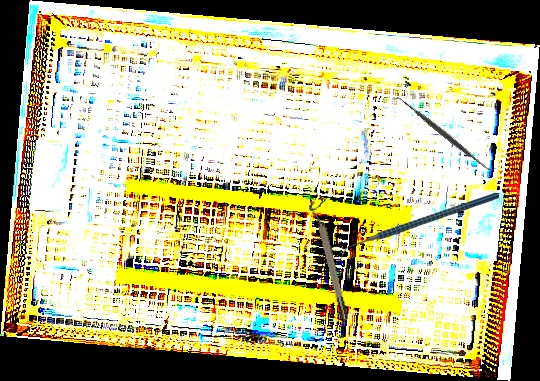Chopper: (339, 193, 499, 260)
Fixation Ring: (307, 198, 351, 323)
Spatula Surgical: (391, 89, 498, 179)
